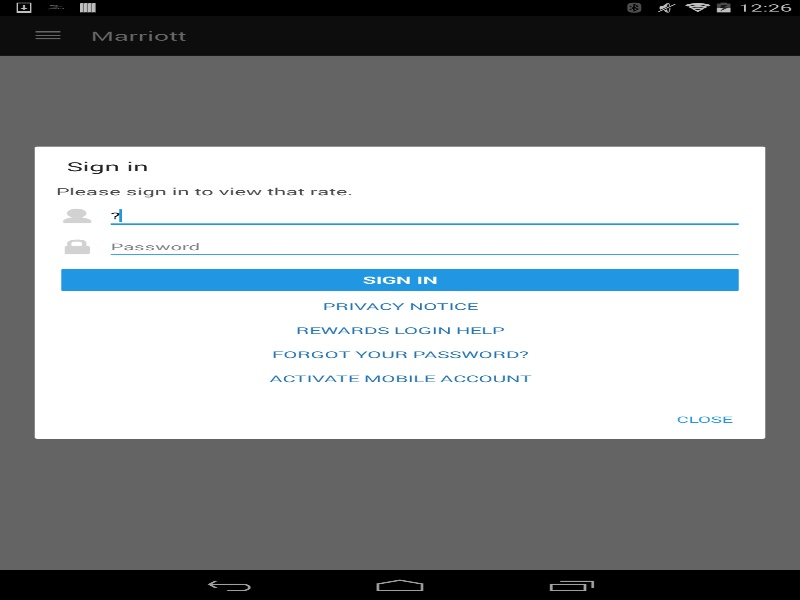Button: (56, 265, 744, 295), (61, 367, 738, 390), (61, 295, 738, 317), (61, 319, 738, 341), (61, 343, 738, 365), (660, 402, 749, 436)
Input: (105, 203, 744, 229), (105, 234, 744, 260)
